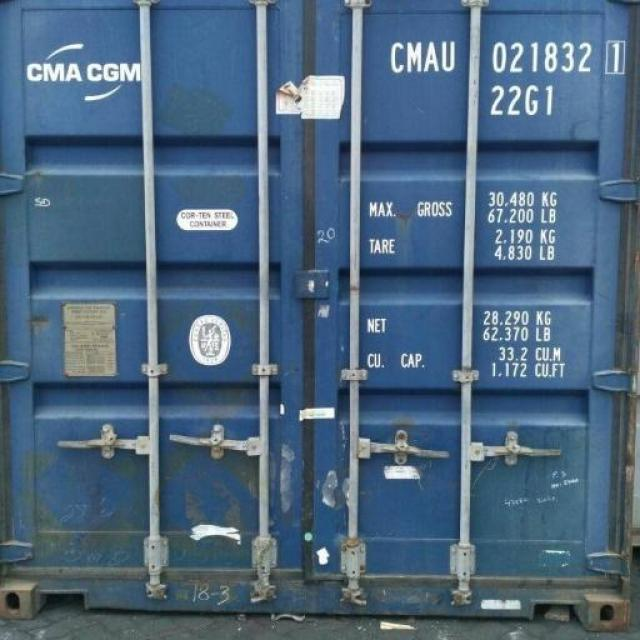ISO: (492, 86, 558, 118)
container_number: (389, 42, 636, 74)
